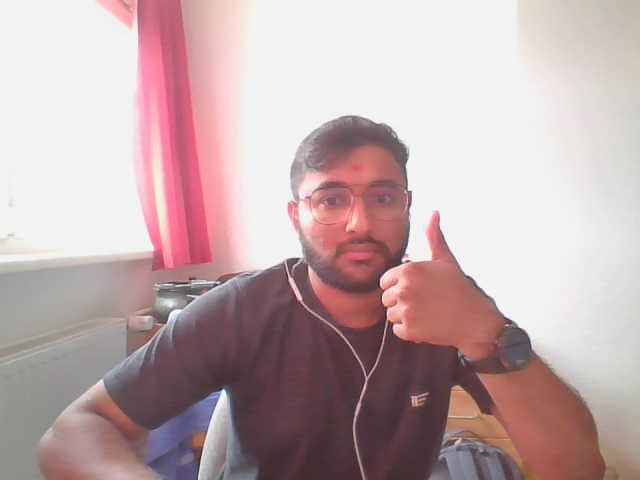ThumbsUp: (378, 210, 478, 355)
